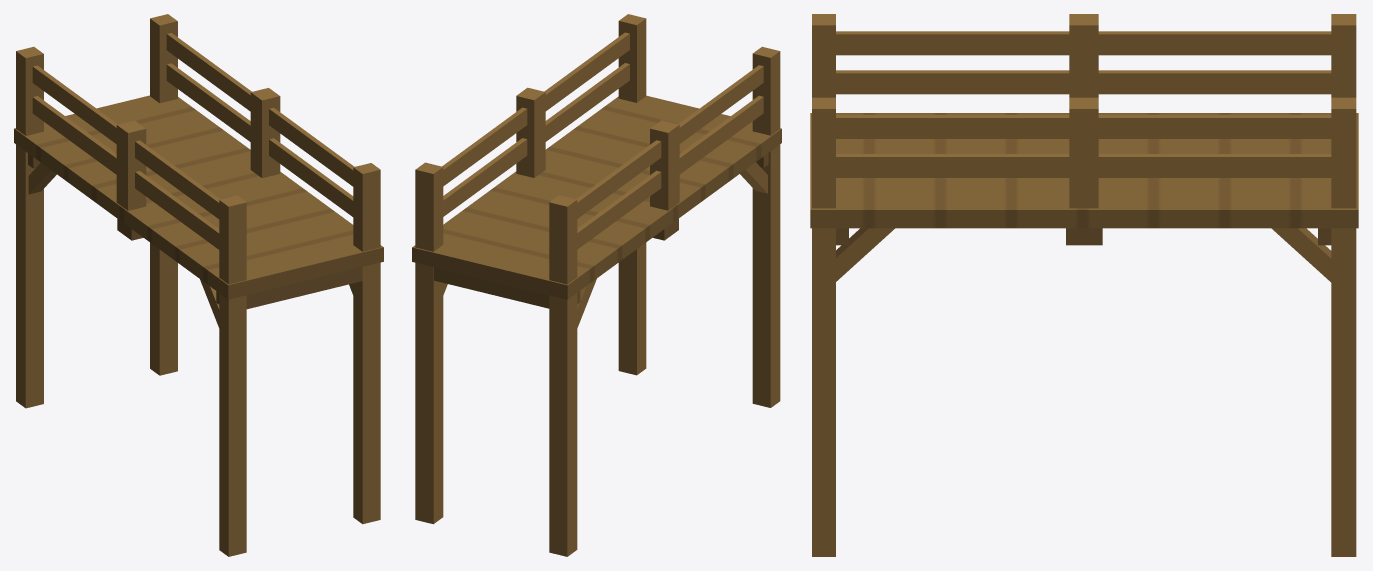
File: Bridge.gltf
3 views of the same model, side by side, from view 1: azimuth 30°, elevation 25°; view 2: azimuth 150°, elevation 25°; view 3: azimuth 270°, elevation 25° (orthographic). The views are drawn at different scales.
Visible parts, largest first — view 1: SF_Prop_Bridge_01; view 2: SF_Prop_Bridge_01; view 3: SF_Prop_Bridge_01.
Part boxes in pixels (x1,y1,x2,y2): SF_Prop_Bridge_01: [14, 14, 383, 556]; SF_Prop_Bridge_01: [412, 14, 781, 556]; SF_Prop_Bridge_01: [810, 14, 1358, 556].
Size of the model in its own units: 0.0442 by 0.0951 by 0.1054.
1 material, 1 textured.
